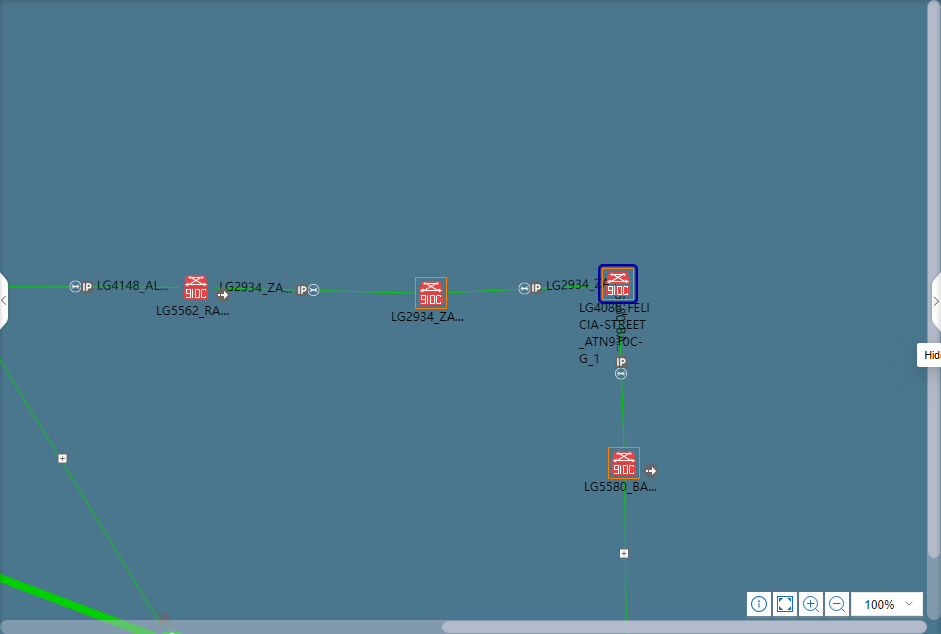ATN_Red: (415, 278, 446, 308), (602, 269, 633, 299), (608, 448, 637, 479), (184, 276, 208, 299)
Link_Green: (0, 356, 161, 620), (0, 573, 157, 634), (448, 283, 596, 295), (216, 288, 414, 295), (617, 305, 625, 447), (623, 481, 628, 621), (8, 285, 180, 288)
